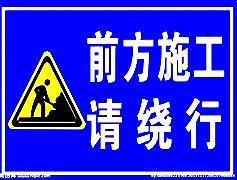sign: (2, 4, 234, 178)
